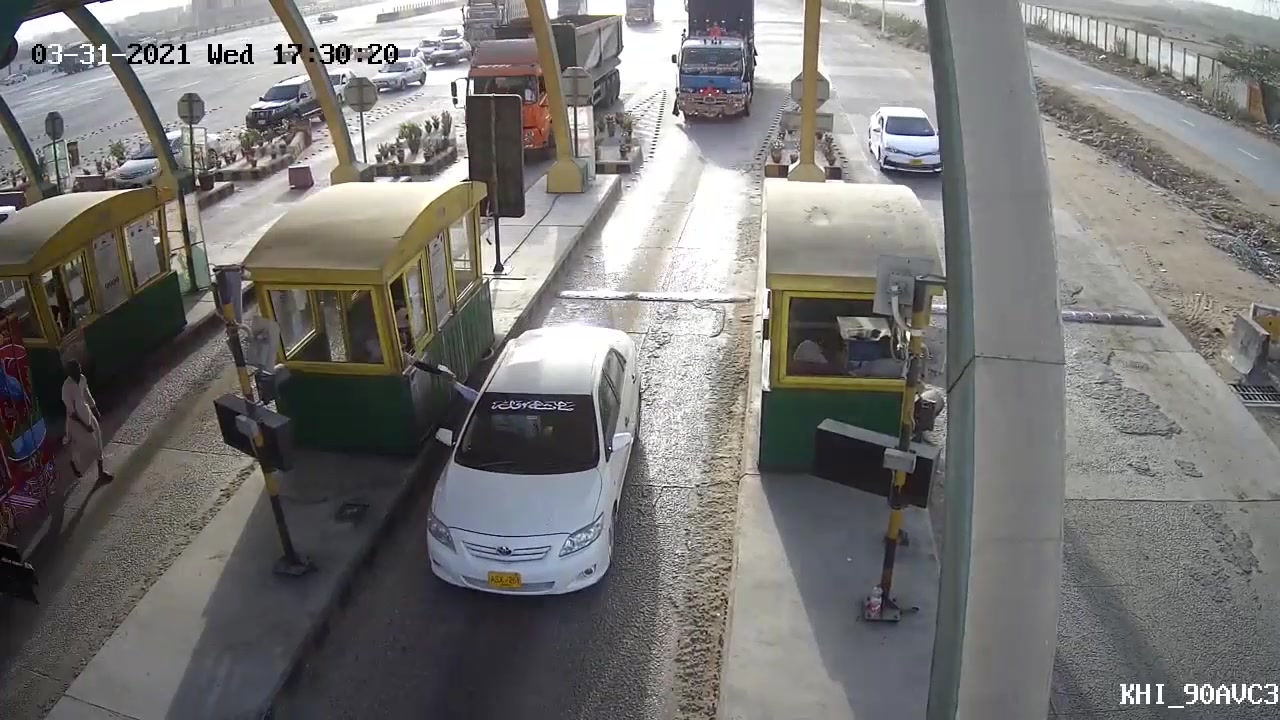F1: (411, 324, 643, 622)
